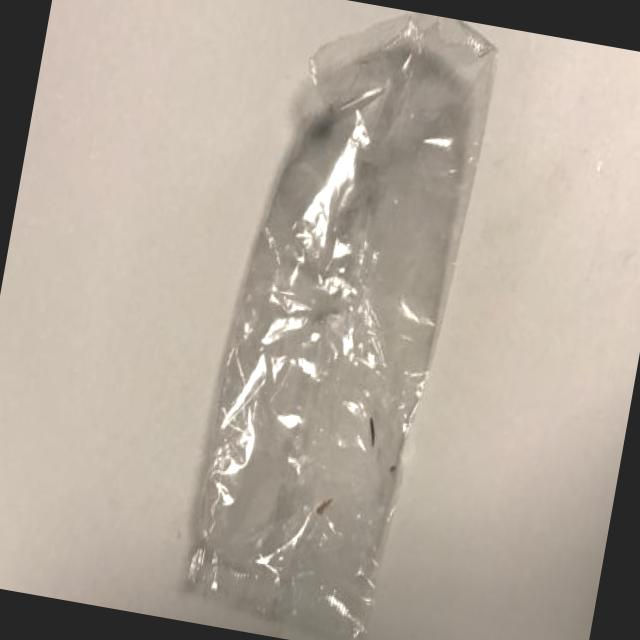Trash: (172, 0, 507, 640)
